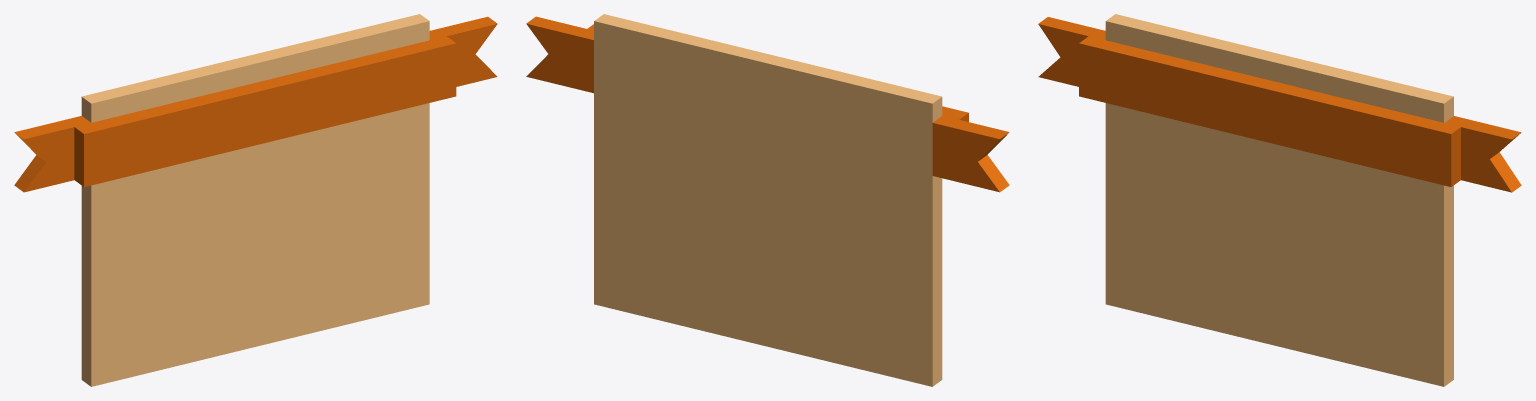
The model's file is menuorange.fbx.
3 renders of one model, left to right at view 1: azimuth 30°, elevation 25°; view 2: azimuth 150°, elevation 25°; view 3: azimuth 330°, elevation 25°, orthographic.
Parts seen in each view (by area): view 1: Cube, Cube.001, Cube.003, Cube.002; view 2: Cube, Cube.003, Cube.002; view 3: Cube, Cube.001, Cube.002, Cube.003.
Part boxes in pixels (box(x1,y1,x2,y2)): Cube: box(81, 14, 429, 386); Cube.001: box(74, 36, 456, 187); Cube.003: box(14, 116, 90, 192); Cube.002: box(429, 16, 497, 86); Cube: box(594, 14, 942, 386); Cube.003: box(932, 115, 1009, 192); Cube.002: box(526, 16, 593, 93); Cube: box(1105, 14, 1453, 386); Cube.001: box(1079, 36, 1460, 186); Cube.002: box(1445, 116, 1521, 192); Cube.003: box(1038, 17, 1105, 86).
Bounding box in the file's own units: 5602 × 3200 × 399.
